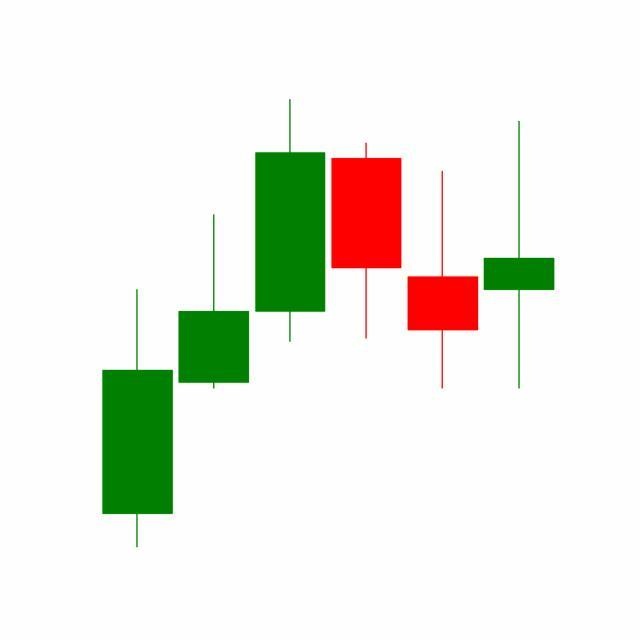Upside-Downside Gap Three Methods: (326, 119, 555, 393)
